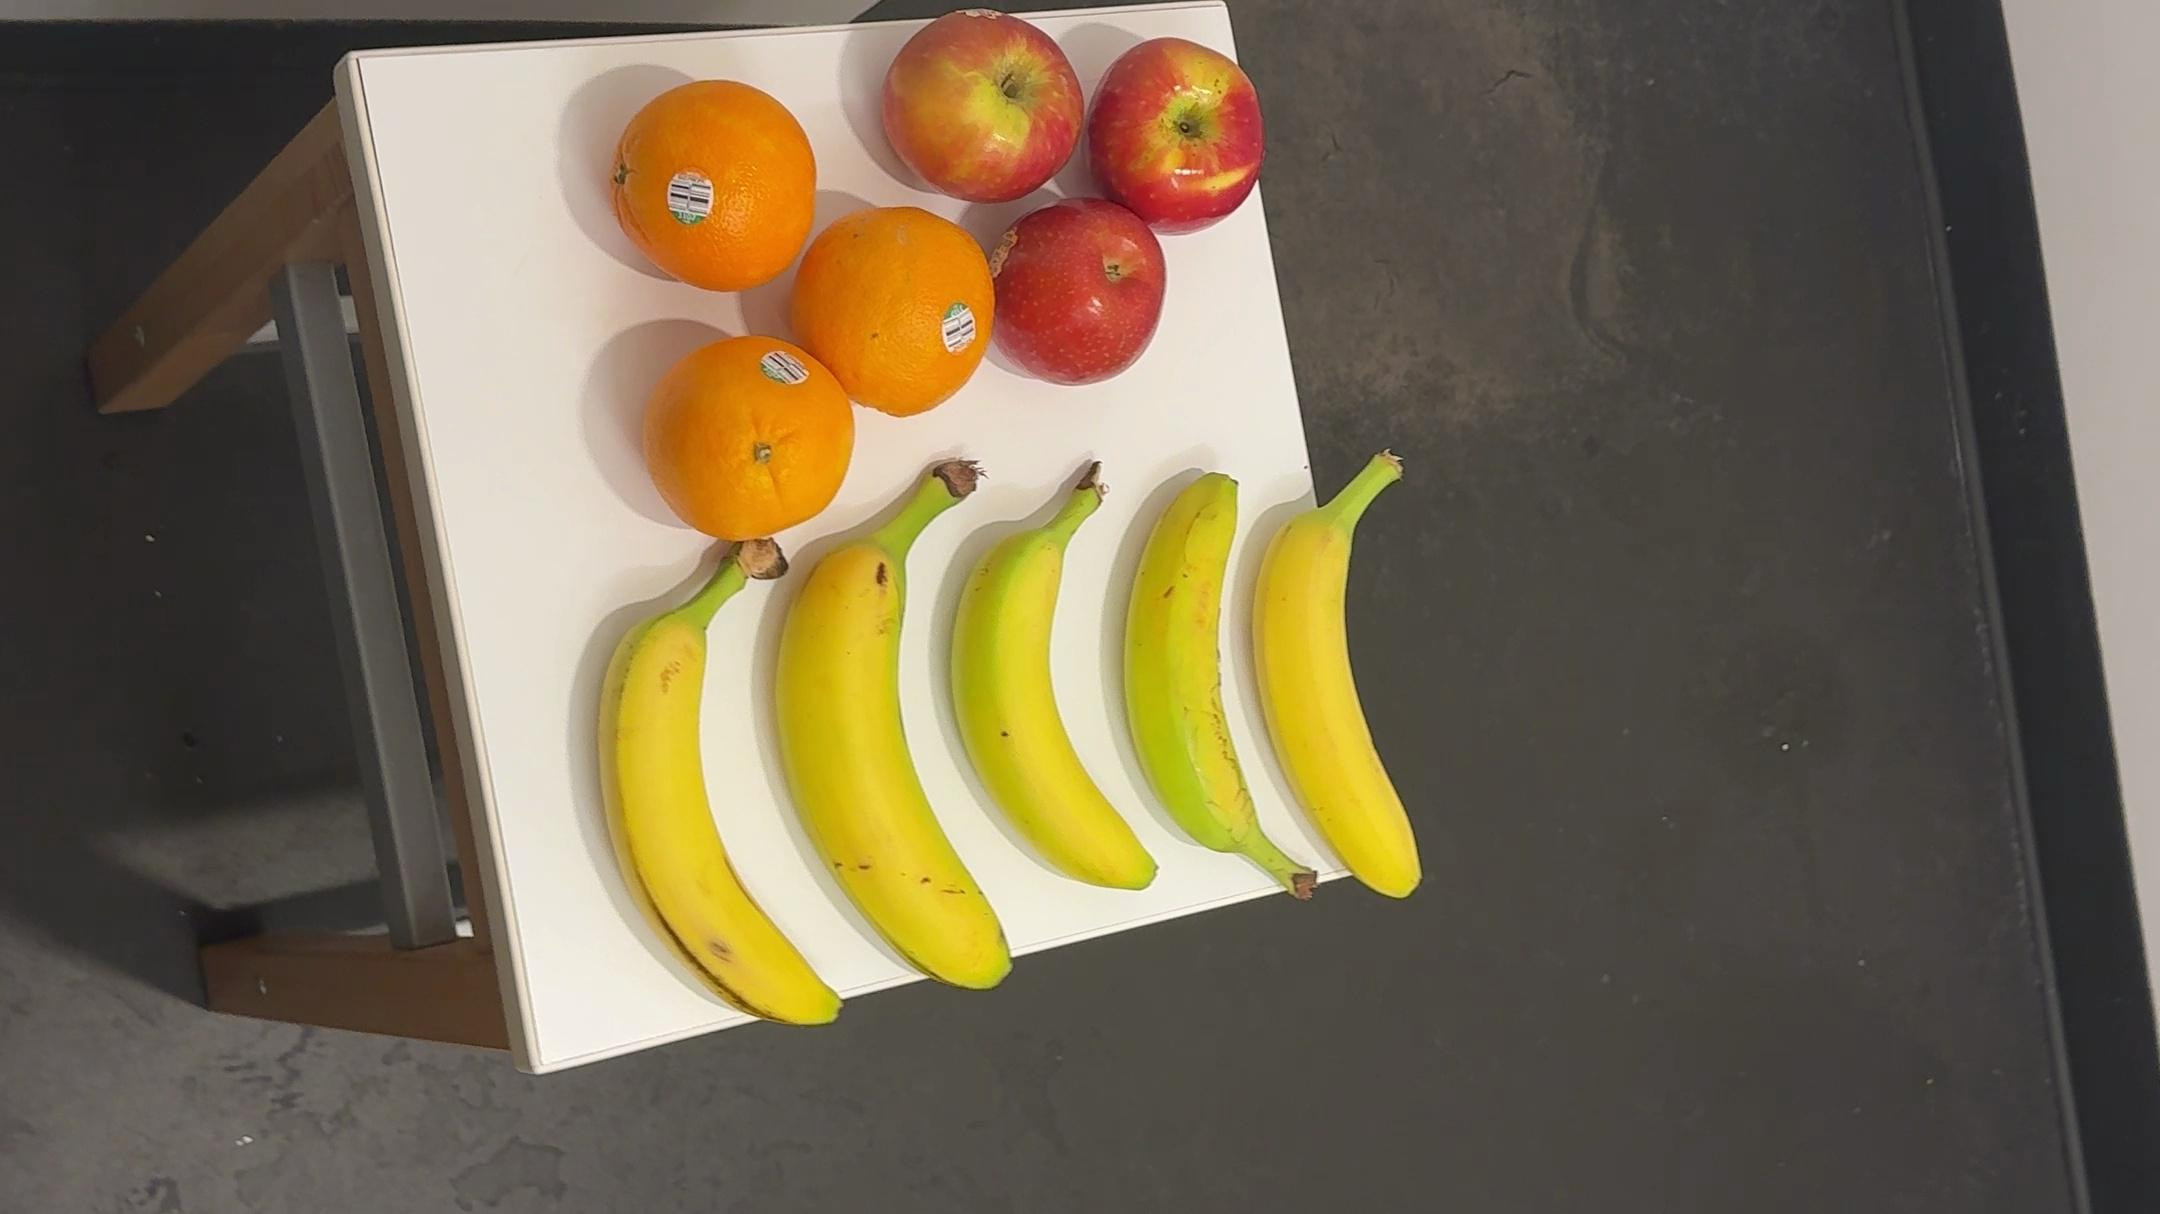apple: (1081, 30, 1271, 236), (886, 4, 1073, 214), (998, 203, 1178, 387)
banana: (561, 531, 852, 1039), (777, 463, 1024, 1008), (1248, 436, 1461, 920), (952, 441, 1165, 919), (1117, 456, 1334, 907)
orange: (607, 68, 807, 300), (797, 199, 992, 427), (648, 329, 852, 542)
